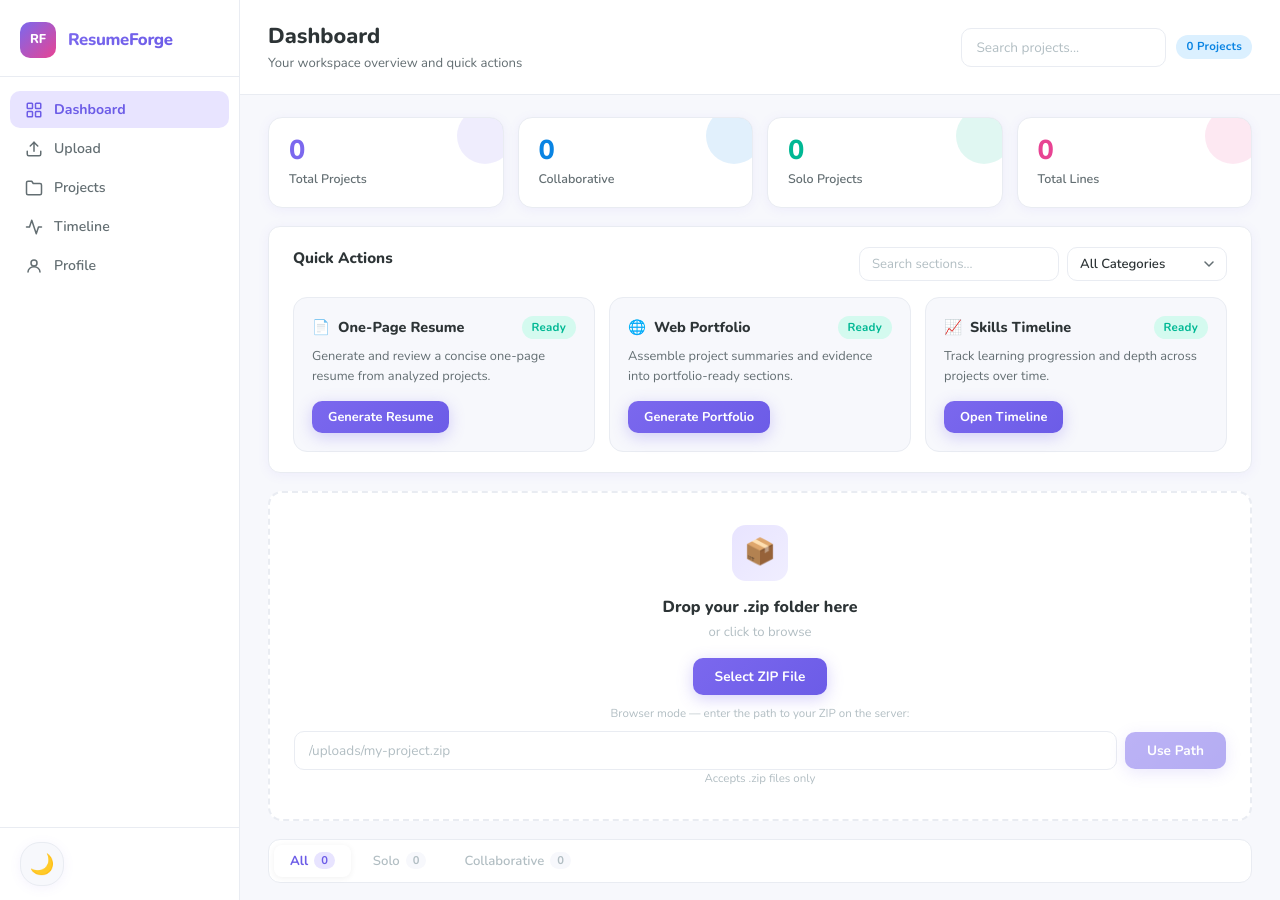
Test: App Layout › filters feature cards by category
Step 1. Select "Timeline" in the dropdown named "Filter category" → (1147, 264), box top-left (1067, 247), bottom-right (1227, 281)
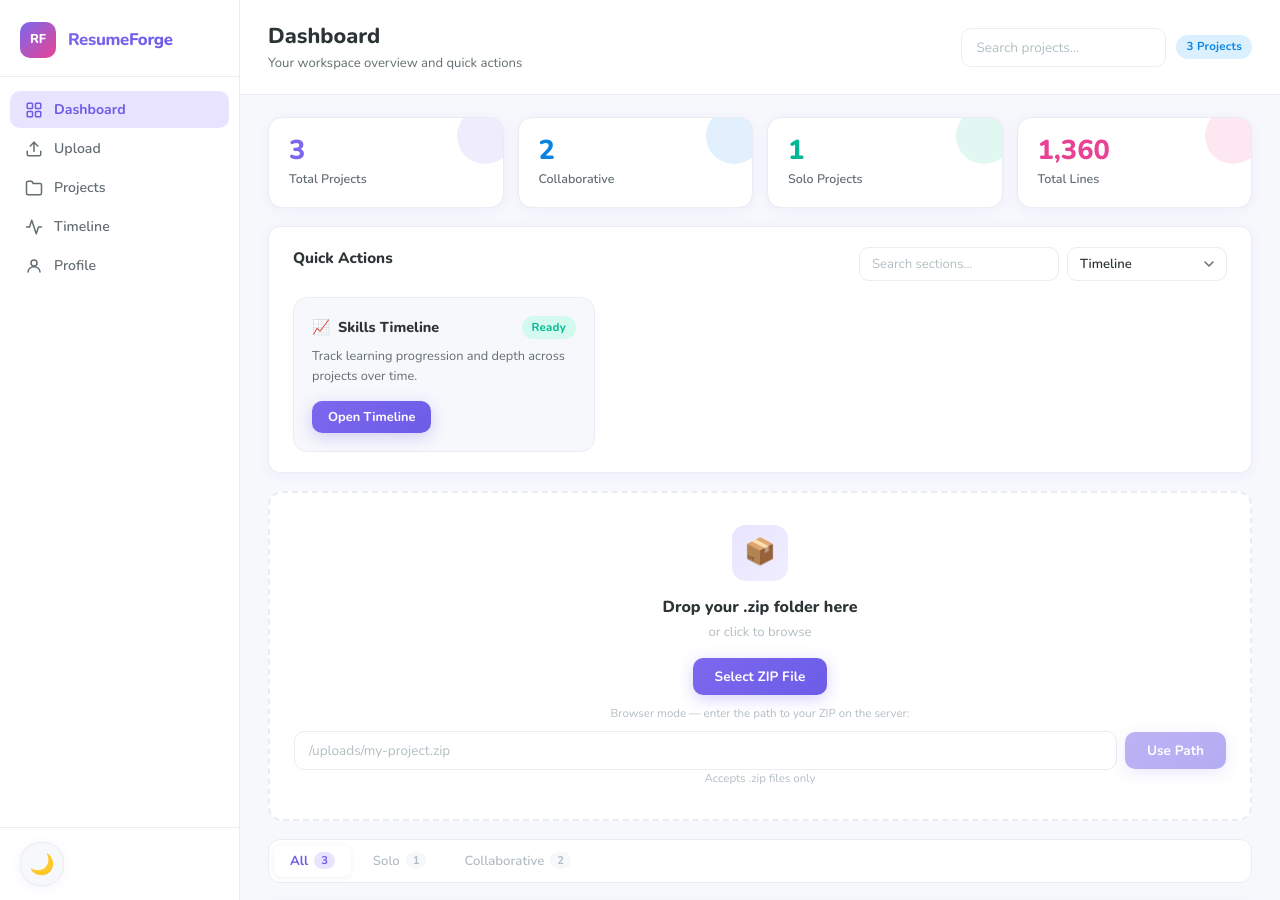
Expected: the heading "📈Skills Timeline" is shown, top-left (312, 316), bottom-right (439, 338)
Result: the heading "Web Portfolio" is gone
